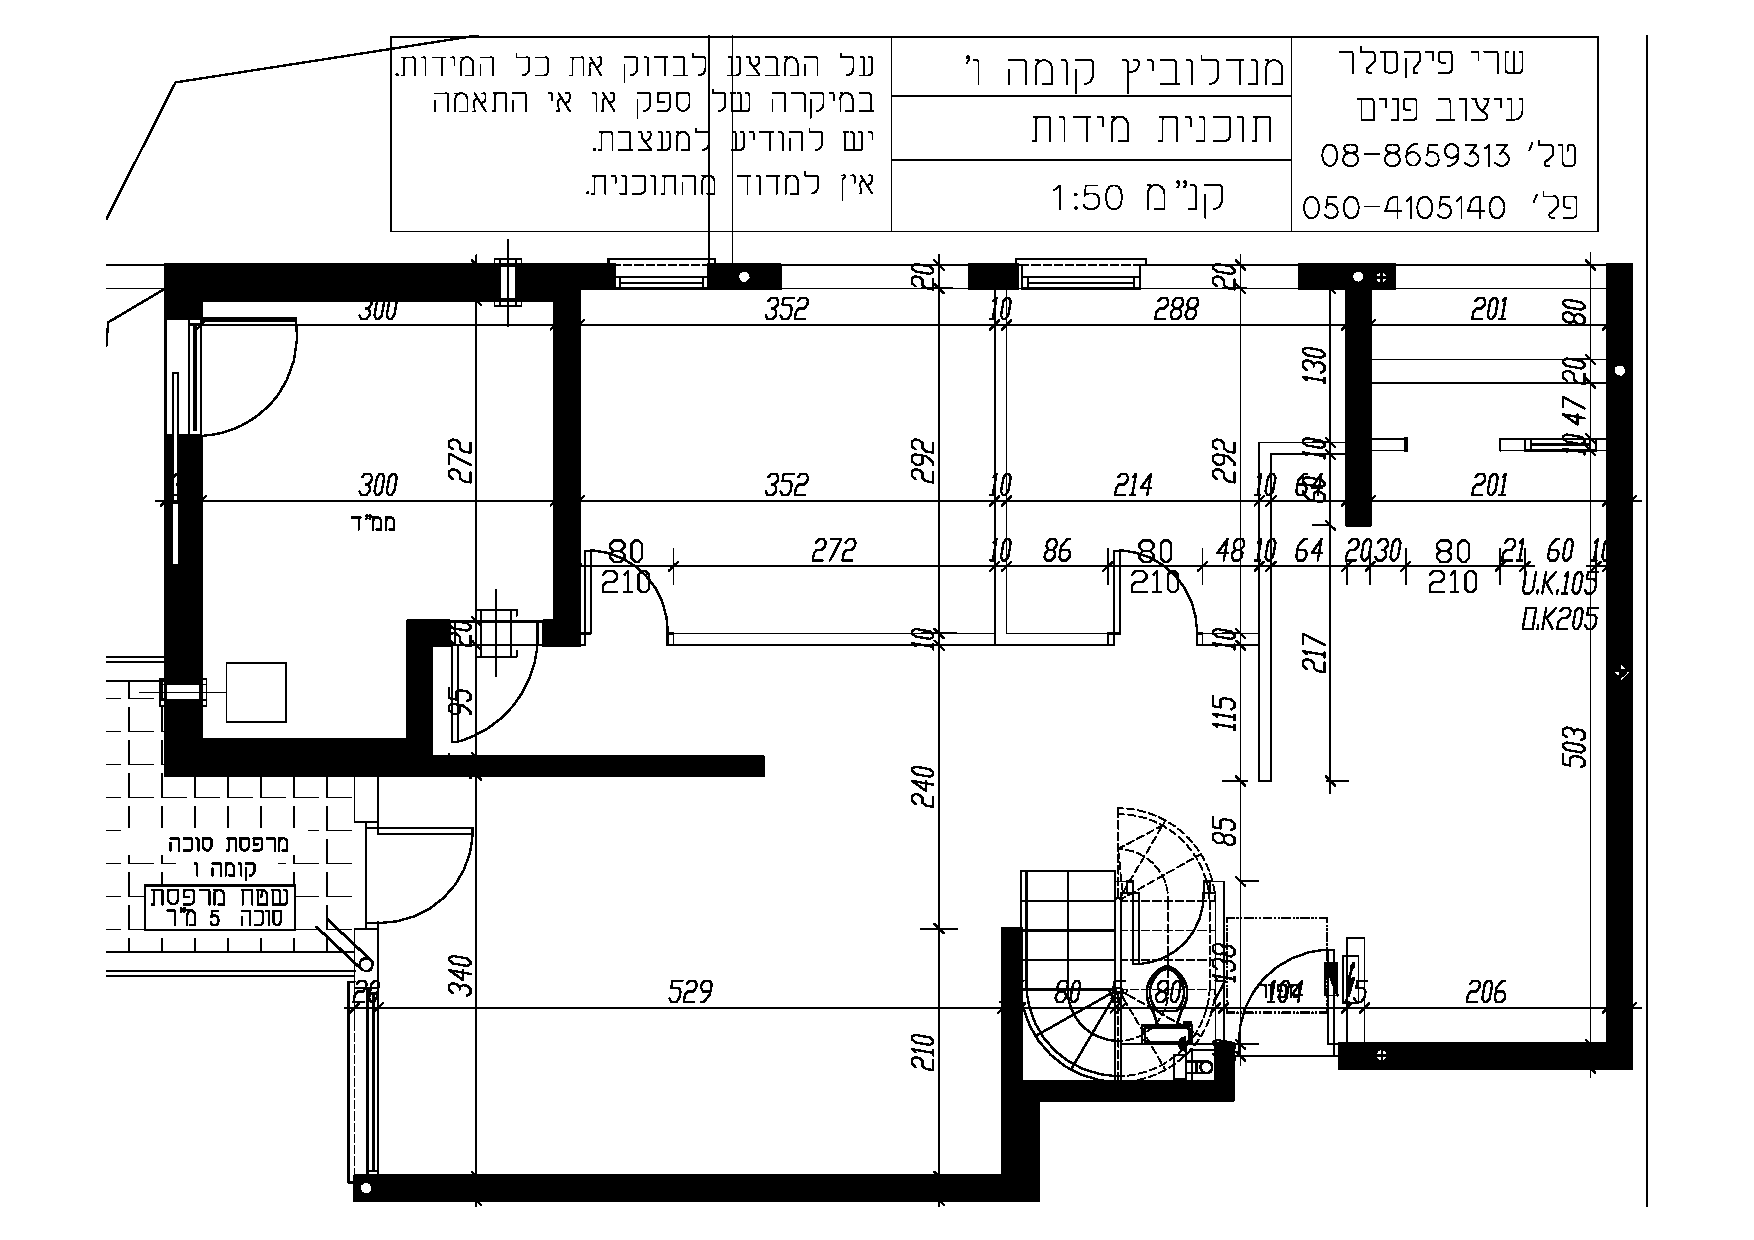door: (211, 315, 309, 447), (391, 824, 468, 929)
wall: (396, 1176, 1000, 1200), (170, 264, 487, 298), (556, 297, 582, 636)
window: (615, 275, 707, 290), (1023, 278, 1142, 289)
